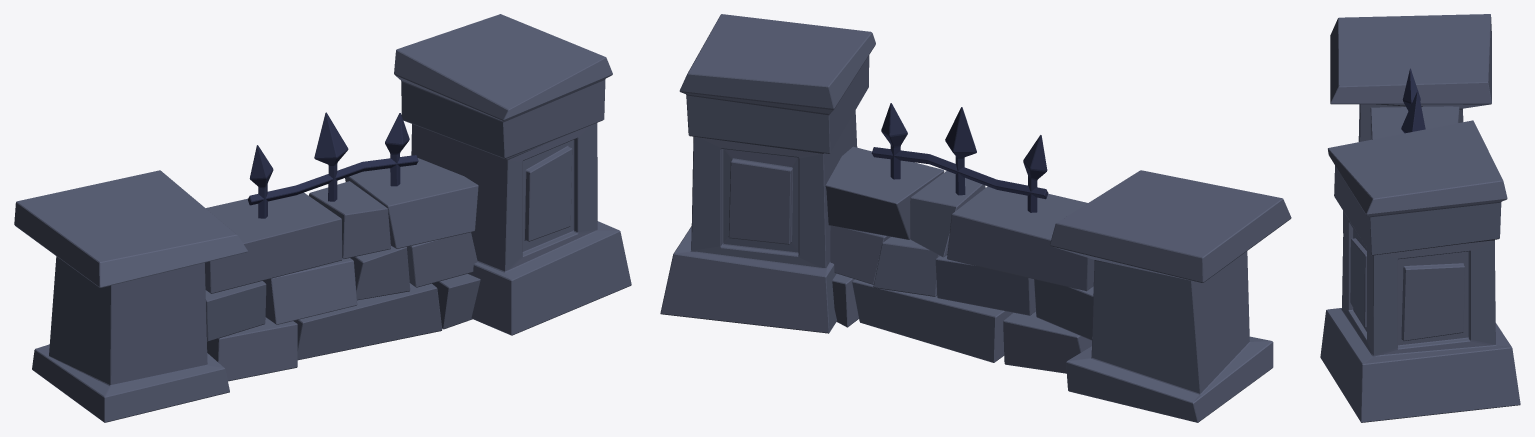
File: stone_fence4.fbx
3 views of the same model, side by side, from view 1: azimuth 30°, elevation 25°; view 2: azimuth 150°, elevation 25°; view 3: azimuth 270°, elevation 25° (orthographic). The views are drawn at different scales.
Parts seen in each view (by area): view 1: Cylinder.002; view 2: Cylinder.002; view 3: Cylinder.002.
Part boxes in pixels (bbox=[...]): Cylinder.002: bbox=[14, 14, 631, 422]; Cylinder.002: bbox=[660, 14, 1291, 422]; Cylinder.002: bbox=[1320, 14, 1520, 422].
Bounding box in the file's own units: 561 × 231 × 188.
